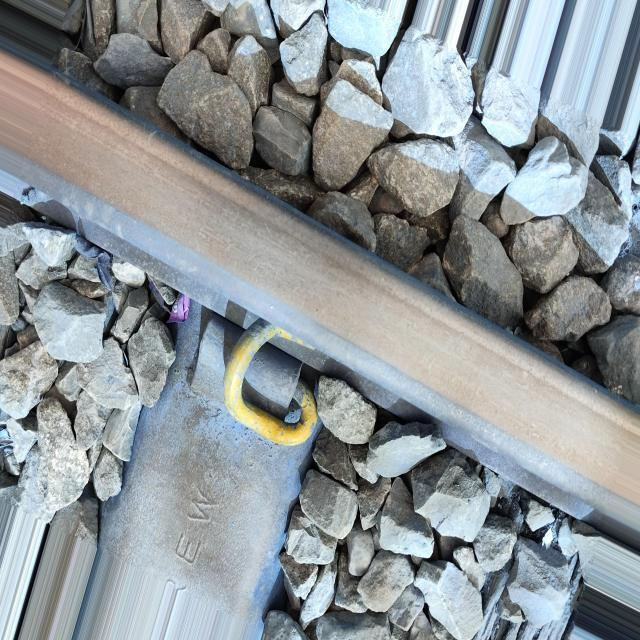Good Fasteners: (188, 306, 322, 475)
